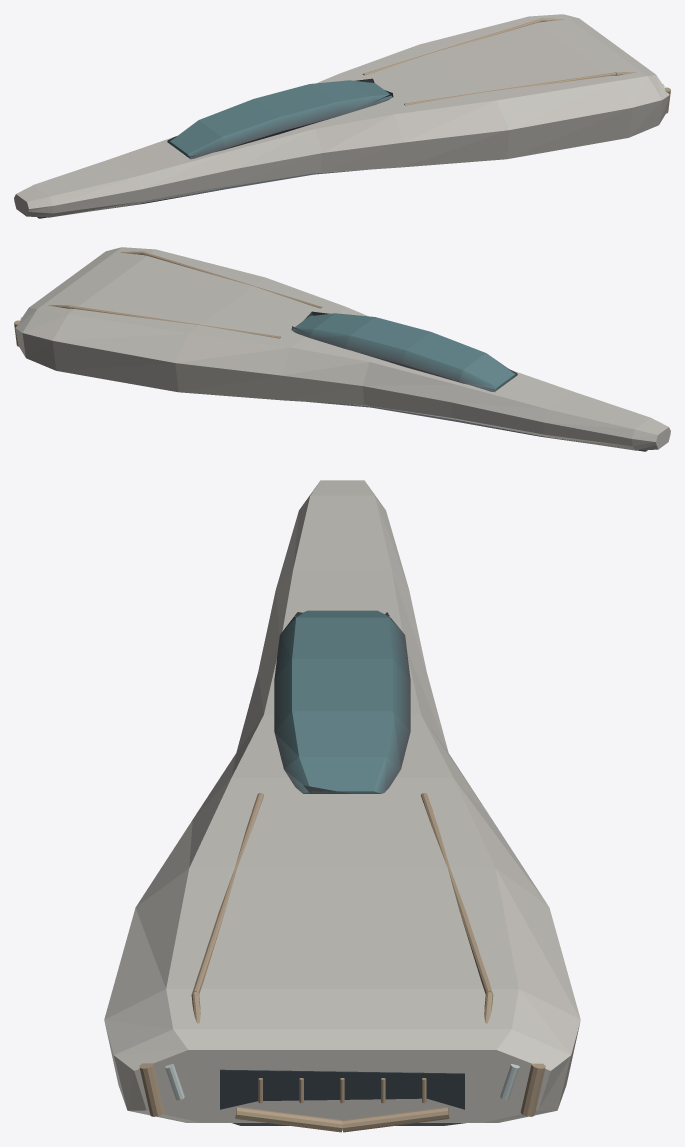
Rendered from jetjet_ivory_parked.glb.
The picture shows the model from 3 angles, top to bottom: view 1: azimuth 30°, elevation 25°; view 2: azimuth 150°, elevation 25°; view 3: azimuth 270°, elevation 25°; orthographic projection. The views are drawn at different scales.
Visible parts, largest first — view 1: hull_0, cockpit_frame_2, bonnet_edge_3, lower_keel_1; view 2: hull_0, cockpit_frame_2, bonnet_edge_3, lower_keel_1; view 3: hull_0, cockpit_frame_2, front_grille_7, bonnet_edge_3, front_chevron_6, front_corner_4.
Boxes of the visible parts, x1,y1,x2,y2 form: hull_0: (14, 14, 669, 217); cockpit_frame_2: (167, 78, 393, 159); bonnet_edge_3: (362, 18, 636, 105); lower_keel_1: (37, 169, 367, 218); hull_0: (15, 247, 670, 450); cockpit_frame_2: (291, 311, 517, 392); bonnet_edge_3: (48, 251, 322, 338); lower_keel_1: (310, 402, 647, 451); hull_0: (104, 480, 580, 1122); cockpit_frame_2: (274, 610, 410, 793); front_grille_7: (220, 1069, 464, 1109); bonnet_edge_3: (191, 793, 493, 1023); front_chevron_6: (235, 1107, 449, 1132); front_corner_4: (139, 1063, 545, 1116).
Bounding box in the file's own units: 10.17 × 1.23 × 3.5.
